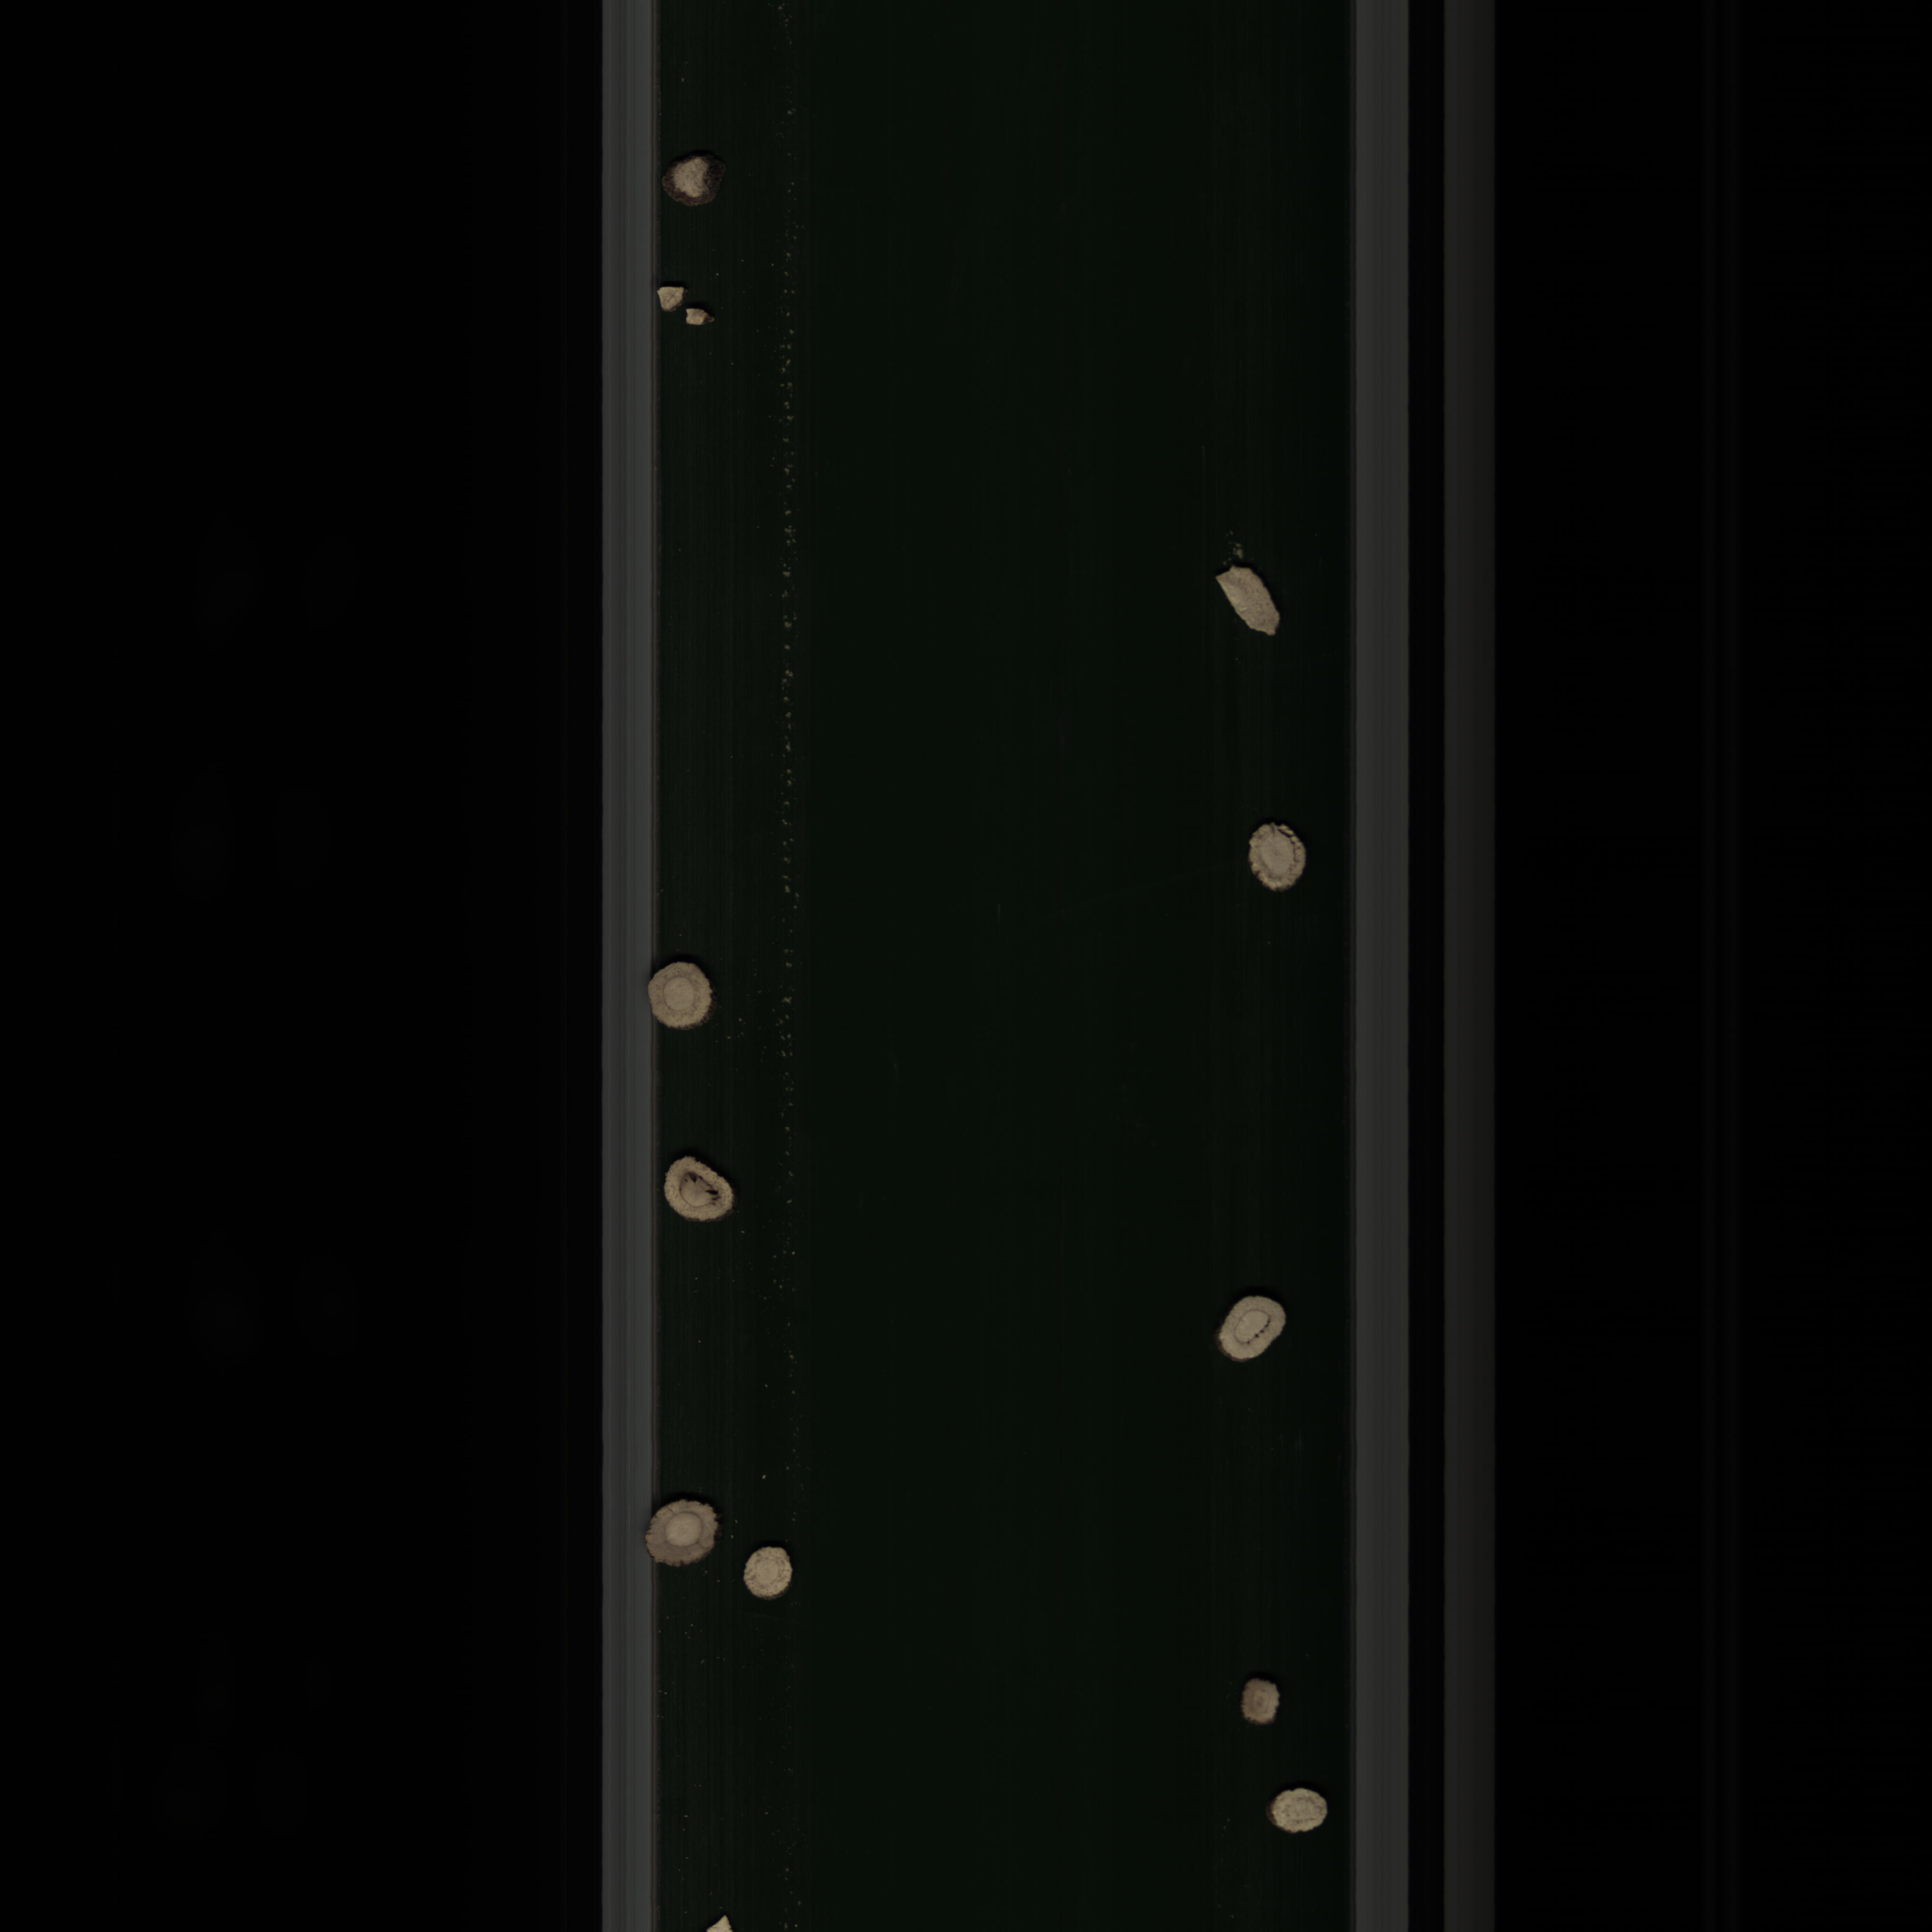bark: (663, 152, 725, 209)
debris: (1198, 554, 1297, 653), (648, 280, 686, 313), (683, 308, 724, 338)
hole: (663, 1143, 741, 1233)
moldy: (640, 1493, 727, 1573)
